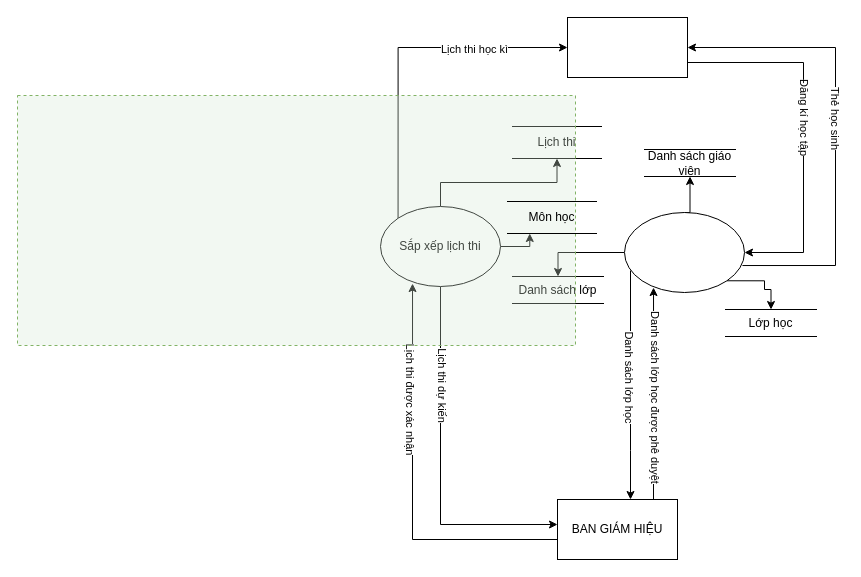
This 861x577 diagram has some shape labels left out. The box of each missing label's shape, as (x1, y1, x2, y2) in pixels:
HỌC SINH: (566, 16, 688, 78)
Sắp xếp lớp học: (624, 212, 744, 292)
